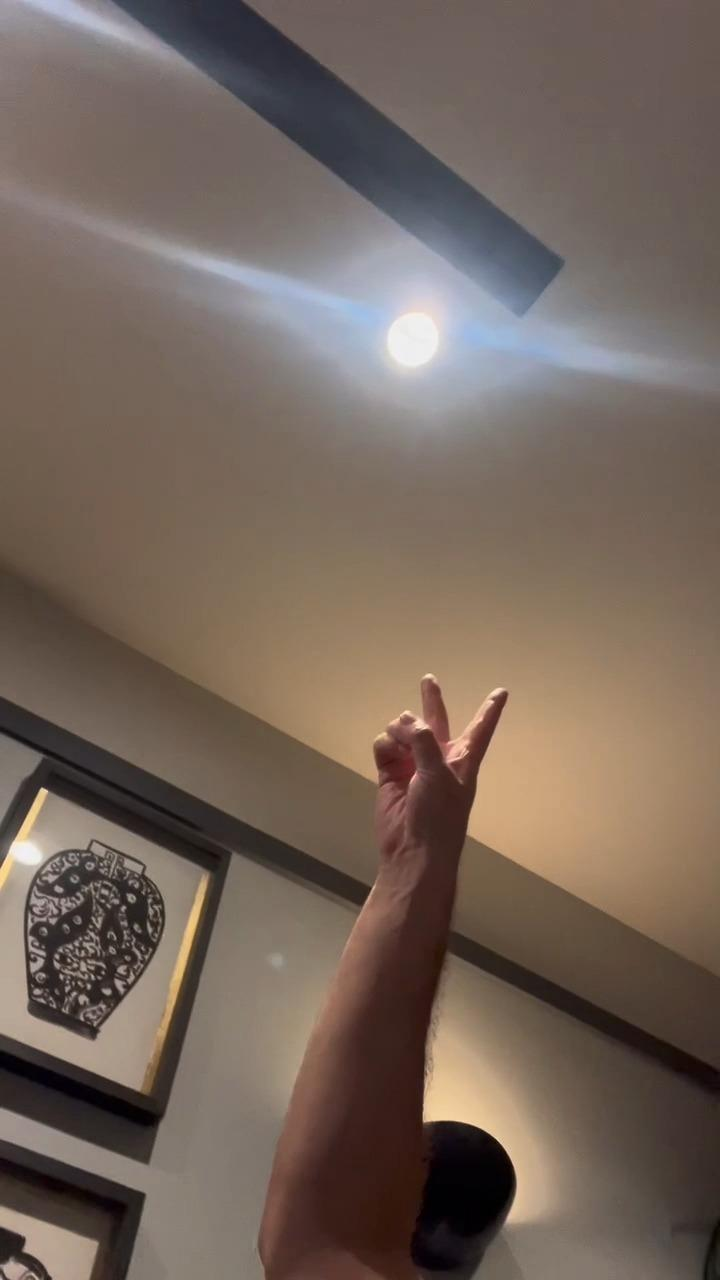Scissors: (366, 670, 514, 868)
